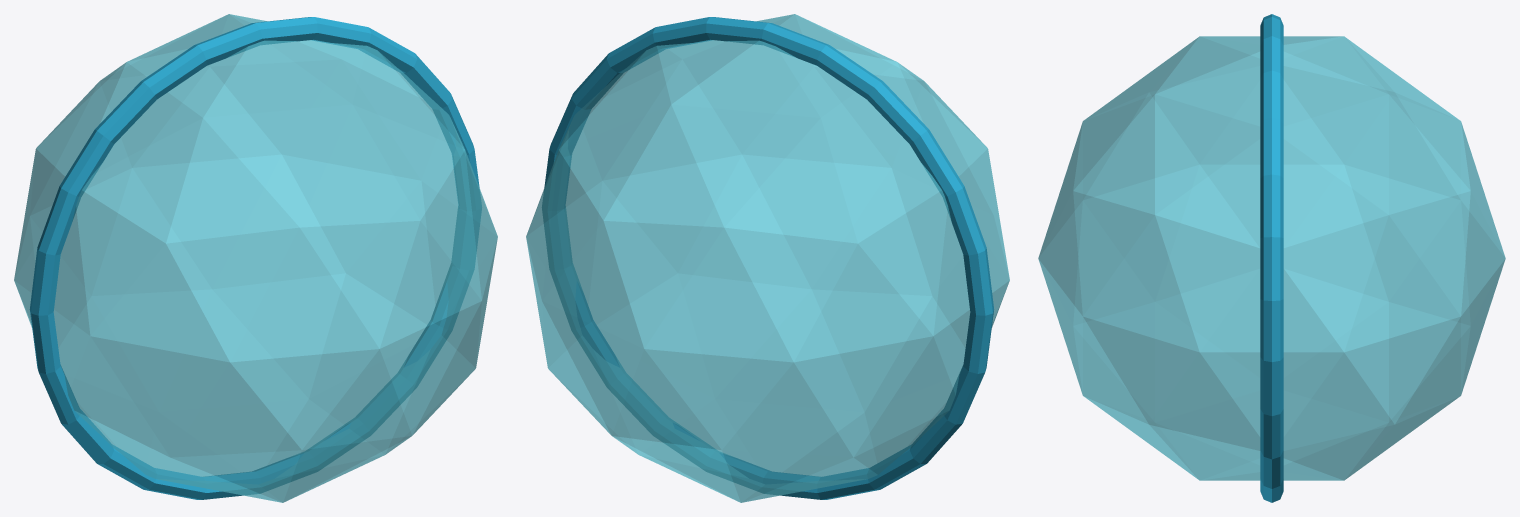
File: wardens-ward-shield.glb
3 renders of one model, left to right at view 1: azimuth 30°, elevation 25°; view 2: azimuth 150°, elevation 25°; view 3: azimuth 270°, elevation 25°, orthographic. The views are drawn at different scales.
Visible parts, largest first — view 1: ward-dome, ward-rim-ring; view 2: ward-dome, ward-rim-ring; view 3: ward-dome, ward-rim-ring.
Part boxes in pixels (x1,y1,x2,y2): ward-dome: [14, 14, 497, 502]; ward-rim-ring: [29, 17, 481, 499]; ward-dome: [526, 14, 1009, 502]; ward-rim-ring: [542, 17, 994, 499]; ward-dome: [1038, 36, 1505, 480]; ward-rim-ring: [1260, 14, 1283, 502].
Size of the model in its own units: 1.05 by 1.05 by 1.
